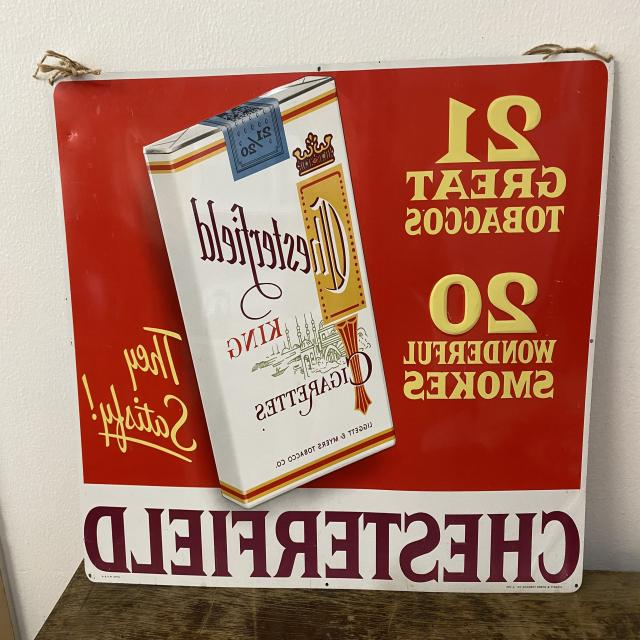chesterfield: (138, 72, 395, 512)
